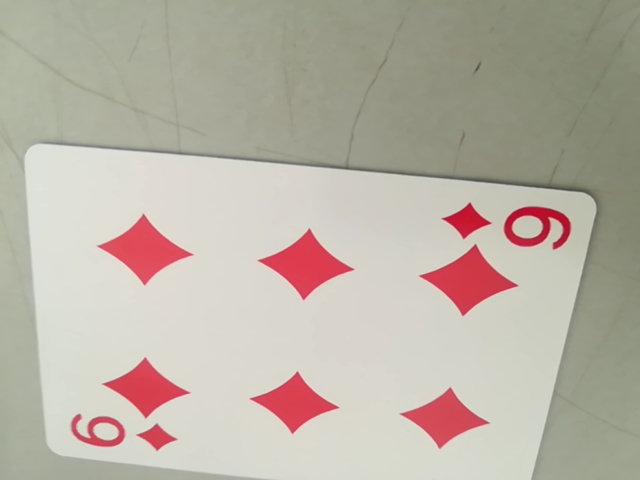fk 6: (441, 198, 573, 253), (60, 410, 186, 460)
